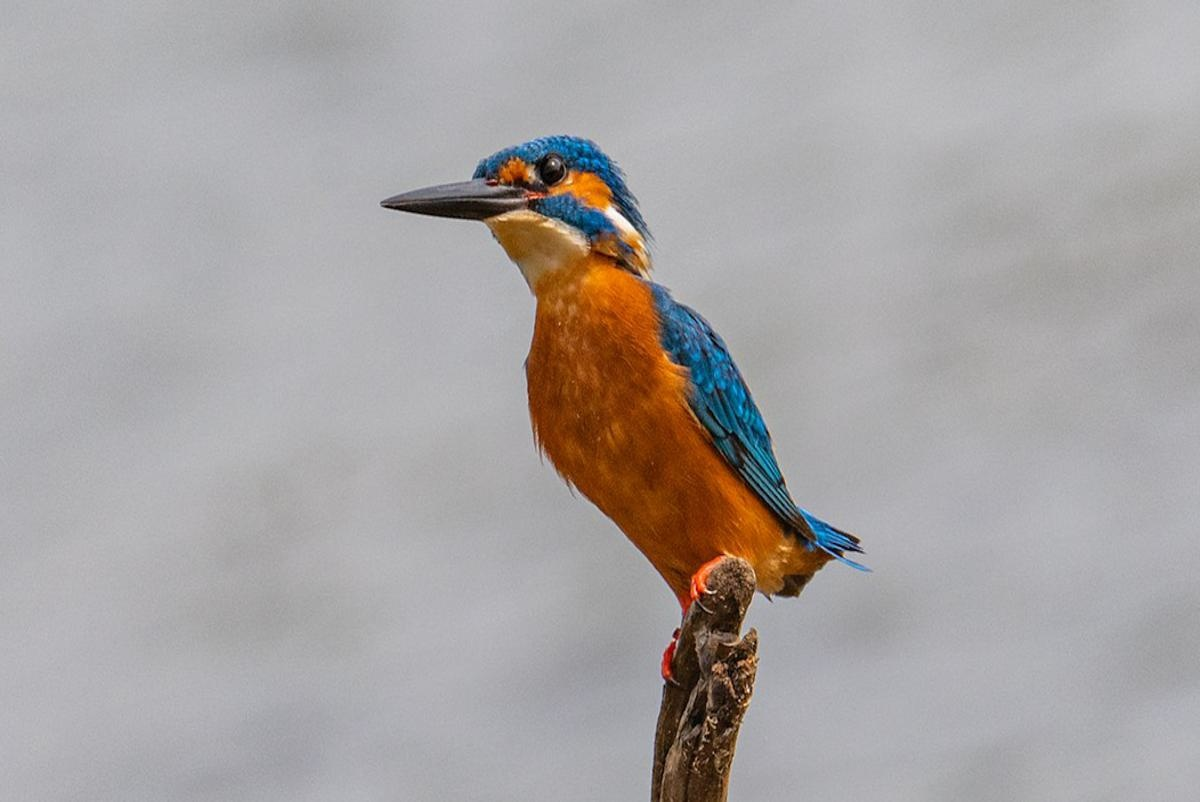kingfisher: (376, 135, 892, 688)
